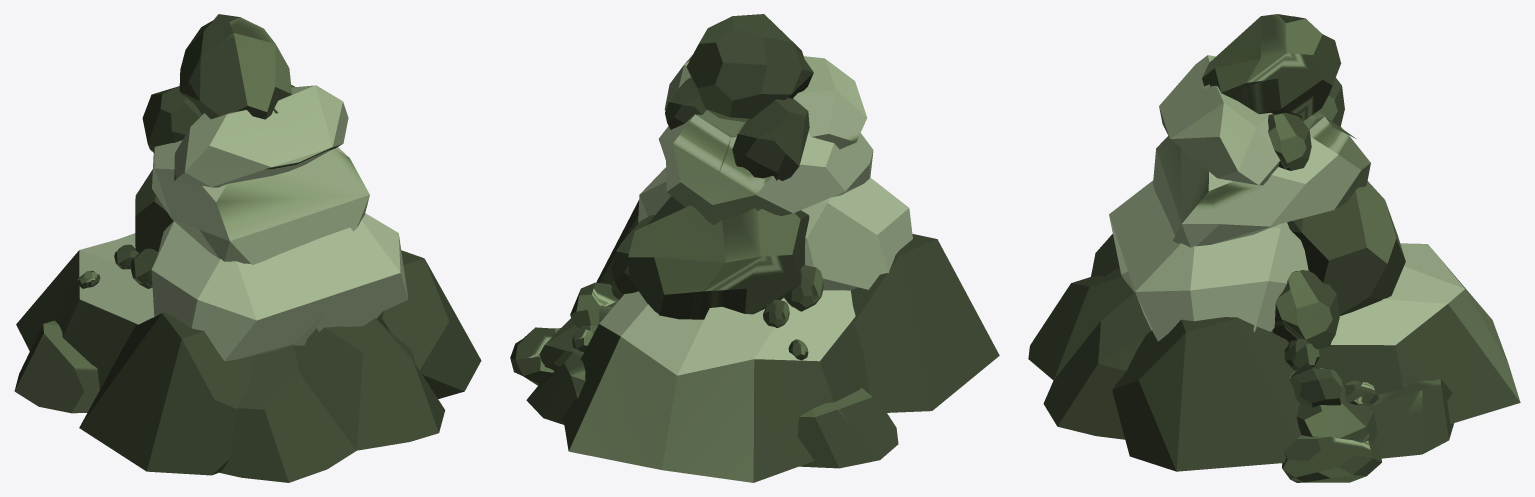
Rendered from EA_Swamp_Stones_Mound_01b.glb.
The picture shows the model from 3 angles, left to right: view 1: azimuth 30°, elevation 25°; view 2: azimuth 150°, elevation 25°; view 3: azimuth 270°, elevation 25°; orthographic projection. The views are drawn at different scales.
Visible parts, largest first — view 1: EA_Swamp_Stones_Mound_01b; view 2: EA_Swamp_Stones_Mound_01b; view 3: EA_Swamp_Stones_Mound_01b.
Part boxes in pixels (bbox=[...]): EA_Swamp_Stones_Mound_01b: bbox=[14, 14, 481, 482]; EA_Swamp_Stones_Mound_01b: bbox=[510, 14, 999, 482]; EA_Swamp_Stones_Mound_01b: bbox=[1028, 14, 1520, 482].
Size of the model in its own units: 3.35 by 3.23 by 3.76.
Materials: 1 (1 with a texture image).
